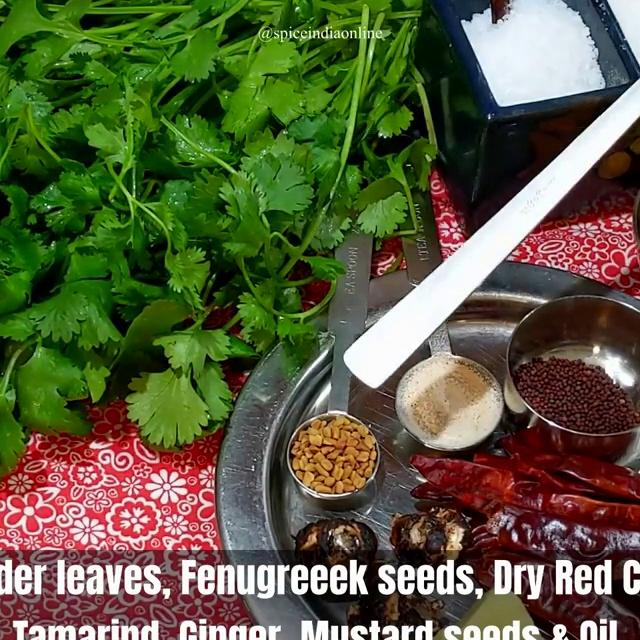cilantro: (0, 0, 336, 390)
